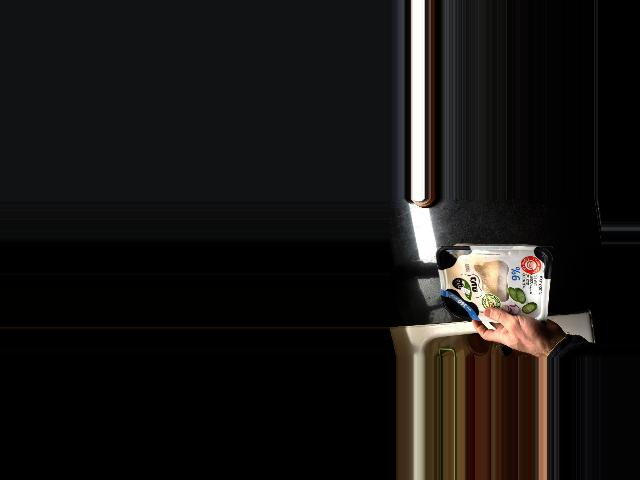cheese: (438, 245, 552, 330)
